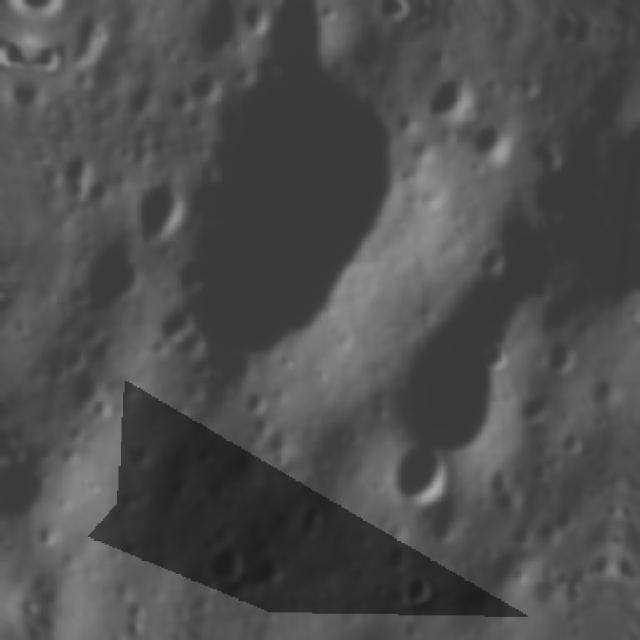crater: (124, 24, 436, 404), (474, 108, 640, 352), (348, 312, 540, 491), (368, 432, 467, 523), (67, 228, 147, 324), (120, 170, 191, 256), (0, 446, 54, 536), (419, 56, 481, 127), (184, 0, 248, 66), (528, 332, 582, 388), (202, 534, 252, 589), (397, 562, 443, 620), (470, 114, 519, 168), (185, 55, 228, 116), (580, 368, 622, 417), (547, 491, 590, 537), (518, 384, 554, 434), (232, 385, 272, 429), (28, 33, 66, 79), (362, 3, 424, 31), (259, 422, 298, 464), (296, 496, 332, 538), (586, 540, 616, 586), (33, 0, 75, 20), (574, 28, 626, 38), (130, 0, 167, 11), (570, 631, 605, 640)
